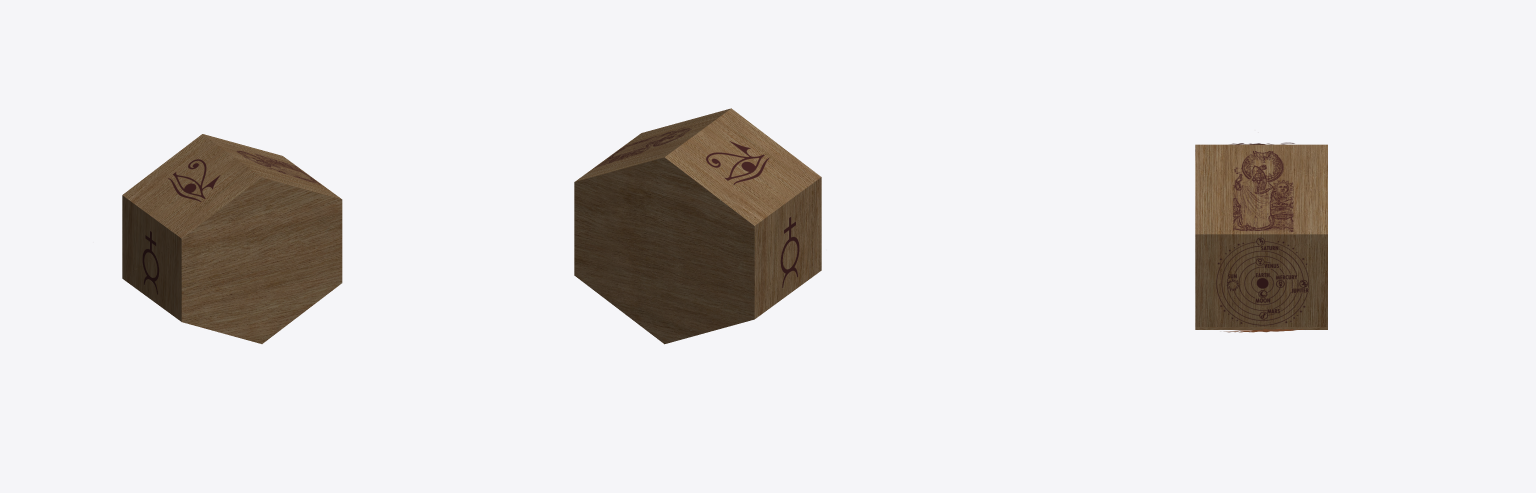
Rendered from rodaprov.glb.
3 renders of one model, left to right at view 1: azimuth 30°, elevation 25°; view 2: azimuth 150°, elevation 25°; view 3: azimuth 270°, elevation 25°, orthographic. The views are drawn at different scales.
Parts seen in each view (by area): view 1: Cylinder; view 2: Cylinder; view 3: Cylinder.
Part boxes in pixels (x1=…): Cylinder: x1=122, y1=134, x2=342, y2=343; Cylinder: x1=574, y1=108, x2=821, y2=344; Cylinder: x1=1195, y1=142, x2=1327, y2=332.
Bounding box in the file's own units: 2.28 × 2.62 × 3.22.
Materials: 7 (7 with a texture image).
